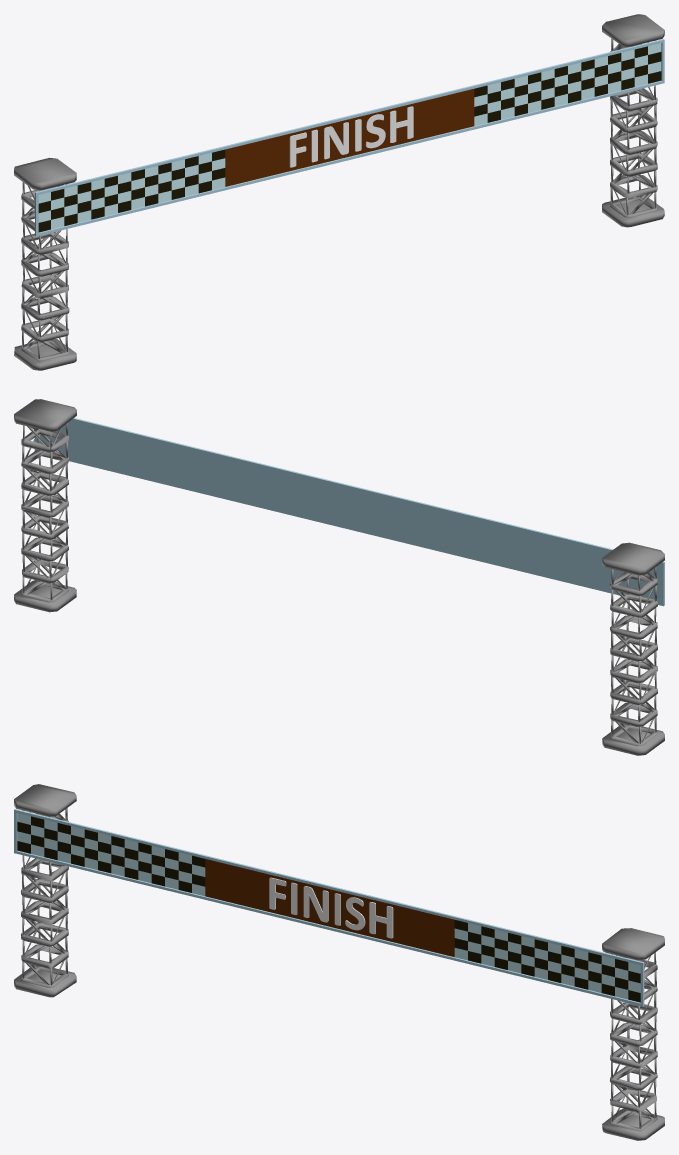
Rendered from finish-line.glb.
The picture shows the model from 3 angles, top to bottom: view 1: azimuth 30°, elevation 25°; view 2: azimuth 150°, elevation 25°; view 3: azimuth 330°, elevation 25°; orthographic projection.
Parts seen in each view (by area): view 1: Board.001_CP Black_0, pole.001_Metal_0; view 2: Board.001_CP Black_0, pole.001_Metal_0; view 3: Board.001_CP Black_0, pole.001_Metal_0.
Part boxes in pixels (bbox=[...]): Board.001_CP Black_0: bbox=[35, 39, 664, 236]; pole.001_Metal_0: bbox=[14, 14, 664, 370]; Board.001_CP Black_0: bbox=[34, 418, 664, 606]; pole.001_Metal_0: bbox=[14, 399, 664, 755]; Board.001_CP Black_0: bbox=[14, 809, 644, 1006]; pole.001_Metal_0: bbox=[14, 784, 664, 1140].
Size of the model in its own units: 15.16 by 4.28 by 1.05.
2 materials, 2 textured.
